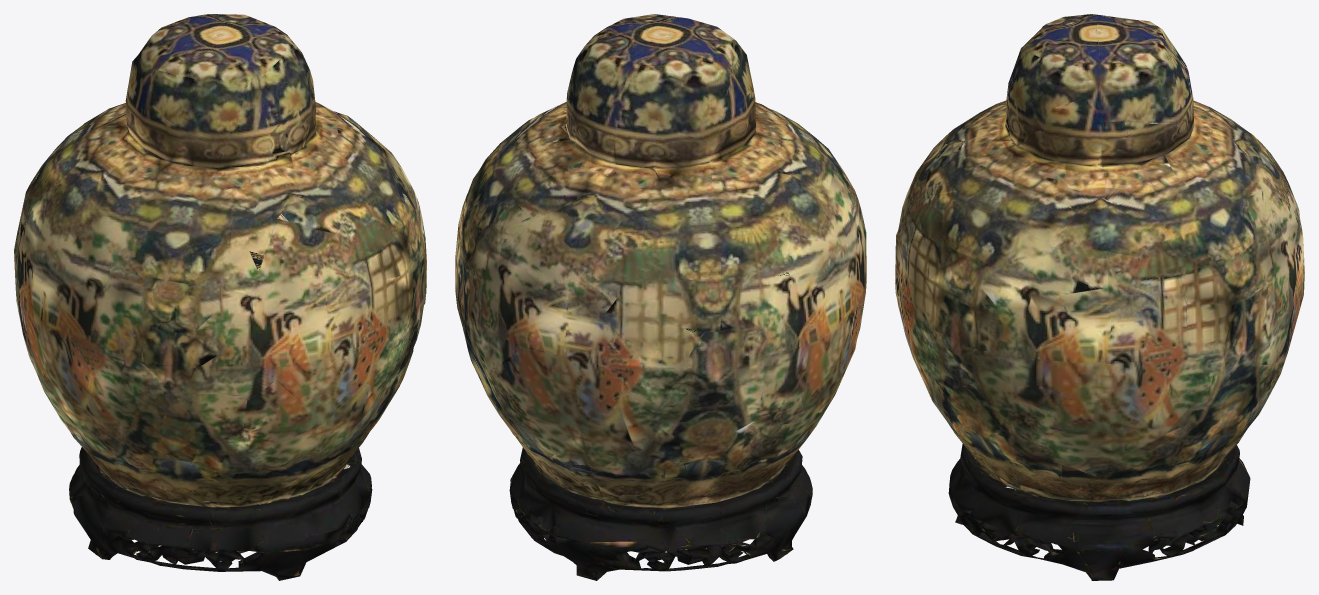
File: pr_jar_porcelain.glb
3 views of the same model, side by side, from view 1: azimuth 30°, elevation 25°; view 2: azimuth 150°, elevation 25°; view 3: azimuth 270°, elevation 25° (orthographic).
Size of the model in its own units: 1.44 by 1.9 by 1.44.
Materials: 1 (1 with a texture image).
